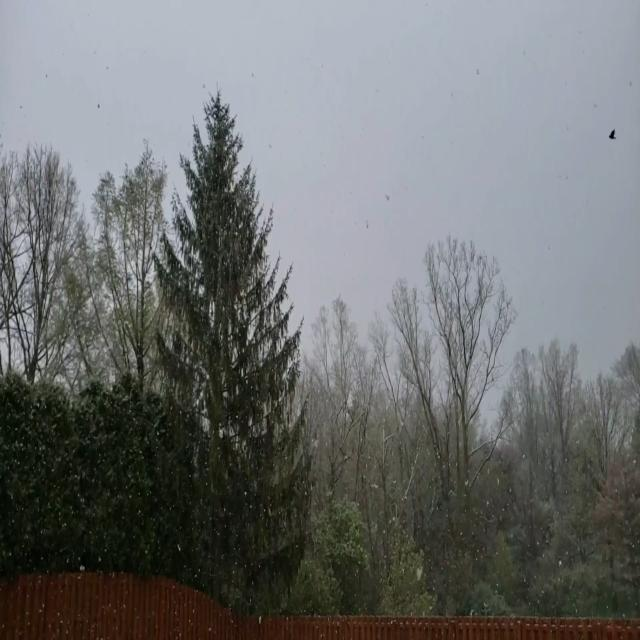bird: (608, 126, 616, 142)
